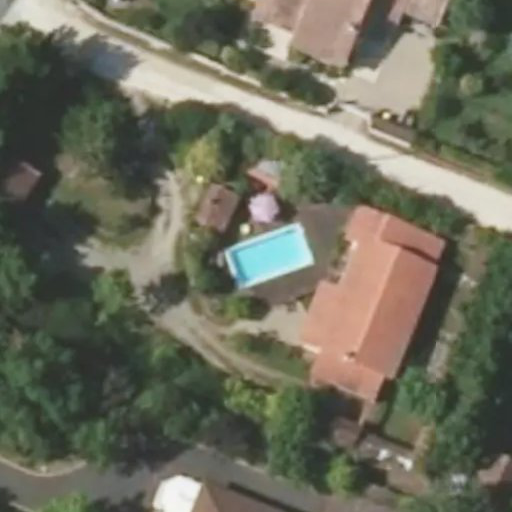pool: (215, 229, 296, 254)
